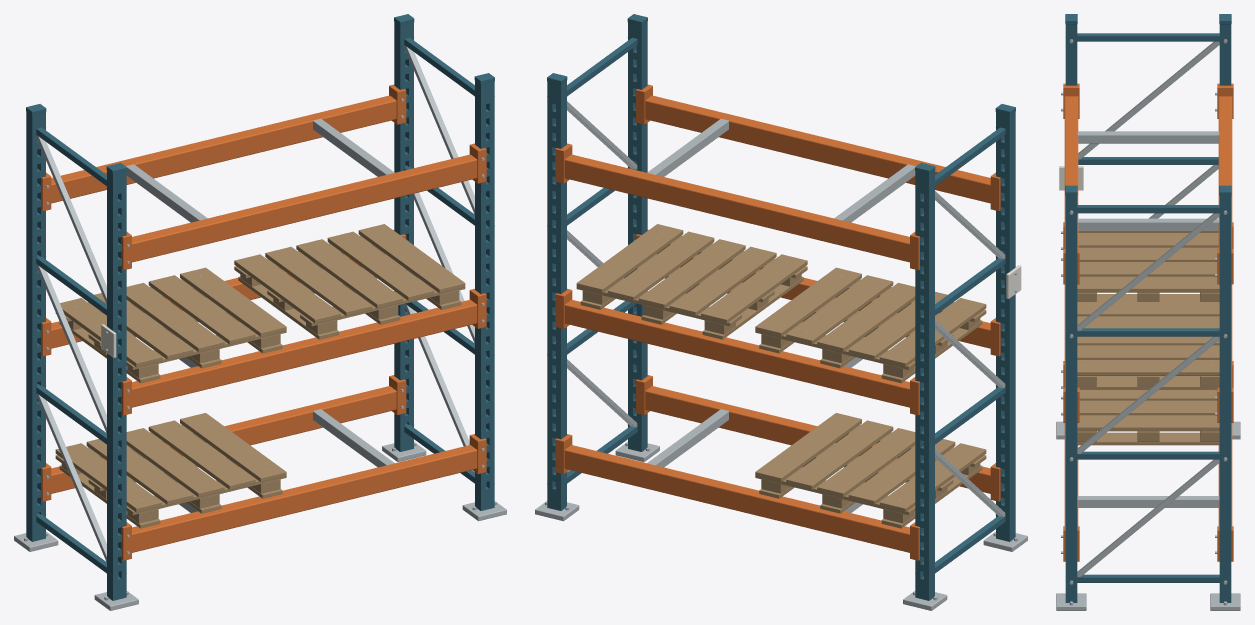
The model's file is city-pallet-racking-bay.glb.
3 views of the same model, side by side, from view 1: azimuth 30°, elevation 25°; view 2: azimuth 150°, elevation 25°; view 3: azimuth 270°, elevation 25° (orthographic). The views are drawn at different scales.
Visible parts, largest first — view 1: Assembly | Rack safety-orange coating, Assembly | Plain warm pallet timber, Assembly | Deep petrol powder coating, Assembly | Brushed plain metal; view 2: Assembly | Rack safety-orange coating, Assembly | Plain warm pallet timber, Assembly | Deep petrol powder coating, Assembly | Brushed plain metal; view 3: Assembly | Plain warm pallet timber, Assembly | Deep petrol powder coating, Assembly | Brushed plain metal, Assembly | Rack safety-orange coating, Assembly | Blank opaque label inserts.
Part boxes in pixels (x1,y1,x2,y2): Assembly | Rack safety-orange coating: (41,84,486,560); Assembly | Plain warm pallet timber: (55,224,465,528); Assembly | Deep petrol powder coating: (26,14,494,600); Assembly | Brushed plain metal: (14,37,506,610); Assembly | Rack safety-orange coating: (555,84,1000,560); Assembly | Plain warm pallet timber: (576,224,986,528); Assembly | Deep petrol powder coating: (547,14,1015,600); Assembly | Brushed plain metal: (535,37,1027,610); Assembly | Plain warm pallet timber: (1077,230,1219,445); Assembly | Deep petrol powder coating: (1065,14,1231,602); Assembly | Brushed plain metal: (1056,39,1240,610); Assembly | Rack safety-orange coating: (1063,83,1233,561); Assembly | Blank opaque label inserts: (1059,166,1083,190).
Size of the model in its own units: 2.86 by 3 by 1.2.
